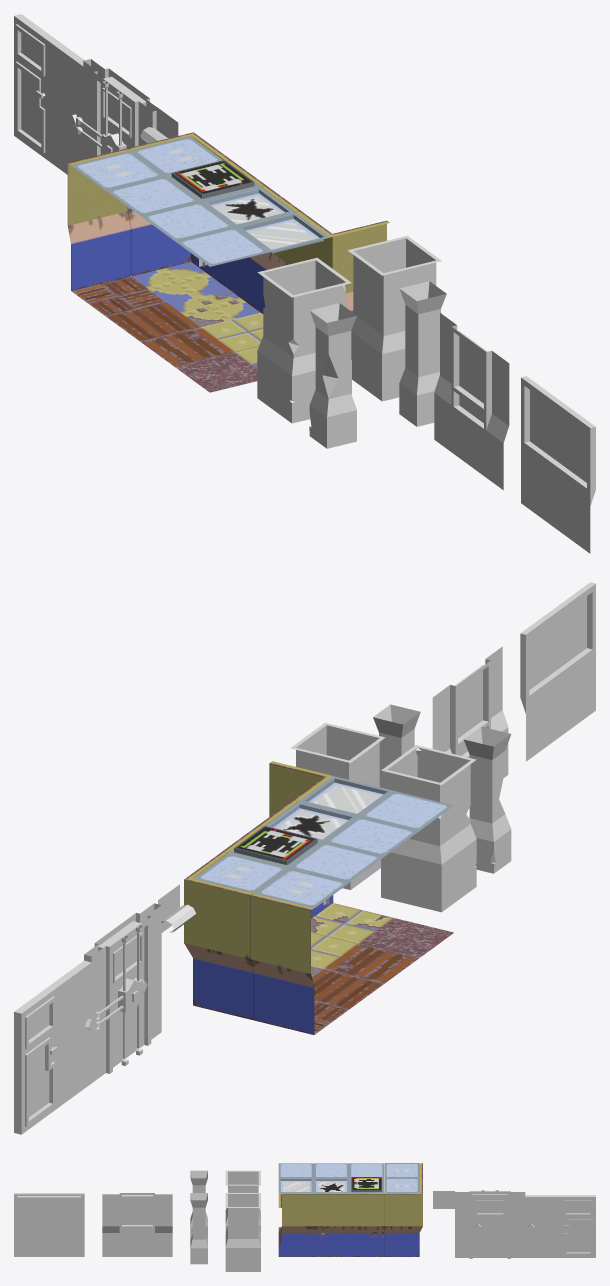
The model's file is Modular assets.fbx.
3 renders of one model, top to bottom at view 1: azimuth 30°, elevation 25°; view 2: azimuth 150°, elevation 25°; view 3: azimuth 270°, elevation 25°, orthographic. The views are drawn at different scales.
Visible parts, largest first — view 1: Window-B, Collumn-Big-Broken, Collumn-Big, Window-A, Wall-A-Short, Collumn-Small.001, Collumn-Small, DoorC, DoorB, Corner-In, DoorFrameA, Corner-Out.001 (+18 smaller); view 2: Collumn-Big-Broken, Window-B, Corner-In, Wall-A-Short, DoorFrameA, DoorC, Collumn-Small.001, Window-A, DoorB, Collumn-Big, DoorA, Roof-C (+16 smaller); view 3: Wall-A-Long, Window-B, Window-A, Collumn-Big, DoorFrameA, Corner-In, DoorB, DoorC, Corner-Out.001, DoorA, Collumn-Small, Collumn-Big-Broken (+10 smaller).
Boxes of the visible parts, left/top/right/bottom form: Window-B: left=521, top=376, right=595, bottom=553; Collumn-Big-Broken: left=257, top=257, right=351, bottom=423; Collumn-Big: left=348, top=235, right=441, bottom=401; Window-A: left=434, top=313, right=509, bottom=489; Wall-A-Short: left=67, top=148, right=130, bottom=290; Collumn-Small.001: left=309, top=303, right=356, bottom=448; Collumn-Small: left=399, top=281, right=446, bottom=426; DoorC: left=14, top=14, right=55, bottom=160; DoorB: left=48, top=39, right=84, bottom=174; Corner-In: left=128, top=132, right=231, bottom=286; DoorFrameA: left=83, top=59, right=156, bottom=158; Corner-Out.001: left=295, top=211, right=389, bottom=312; Collumn-Big-Broken: left=381, top=745, right=476, bottom=912; Window-B: left=520, top=582, right=595, bottom=761; Corner-In: left=184, top=851, right=253, bottom=1019; Wall-A-Short: left=250, top=893, right=314, bottom=1034; DoorFrameA: left=84, top=903, right=161, bottom=1082; DoorC: left=14, top=986, right=57, bottom=1134; Collumn-Small.001: left=463, top=726, right=511, bottom=873; Window-A: left=432, top=646, right=508, bottom=777; DoorB: left=49, top=960, right=94, bottom=1108; Collumn-Big: left=290, top=722, right=385, bottom=889; DoorA: left=101, top=922, right=147, bottom=1067; Roof-C: left=228, top=826, right=323, bottom=867; Wall-A-Long: left=313, top=1193, right=384, bottom=1256; Window-B: left=14, top=1193, right=84, bottom=1256; Window-A: left=102, top=1193, right=172, bottom=1256; Collumn-Big: left=225, top=1193, right=260, bottom=1271; DoorFrameA: left=455, top=1191, right=525, bottom=1258; Corner-In: left=384, top=1178, right=422, bottom=1256; DoorB: left=525, top=1195, right=560, bottom=1257; DoorC: left=560, top=1195, right=595, bottom=1257; Corner-Out.001: left=278, top=1193, right=313, bottom=1256; DoorA: left=472, top=1198, right=507, bottom=1257; Collumn-Small: left=190, top=1193, right=207, bottom=1264; Collumn-Big-Broken: left=225, top=1170, right=260, bottom=1232.
Bounding box in the file's own units: 601 × 413 × 3300.
6 materials, 2 textured.
